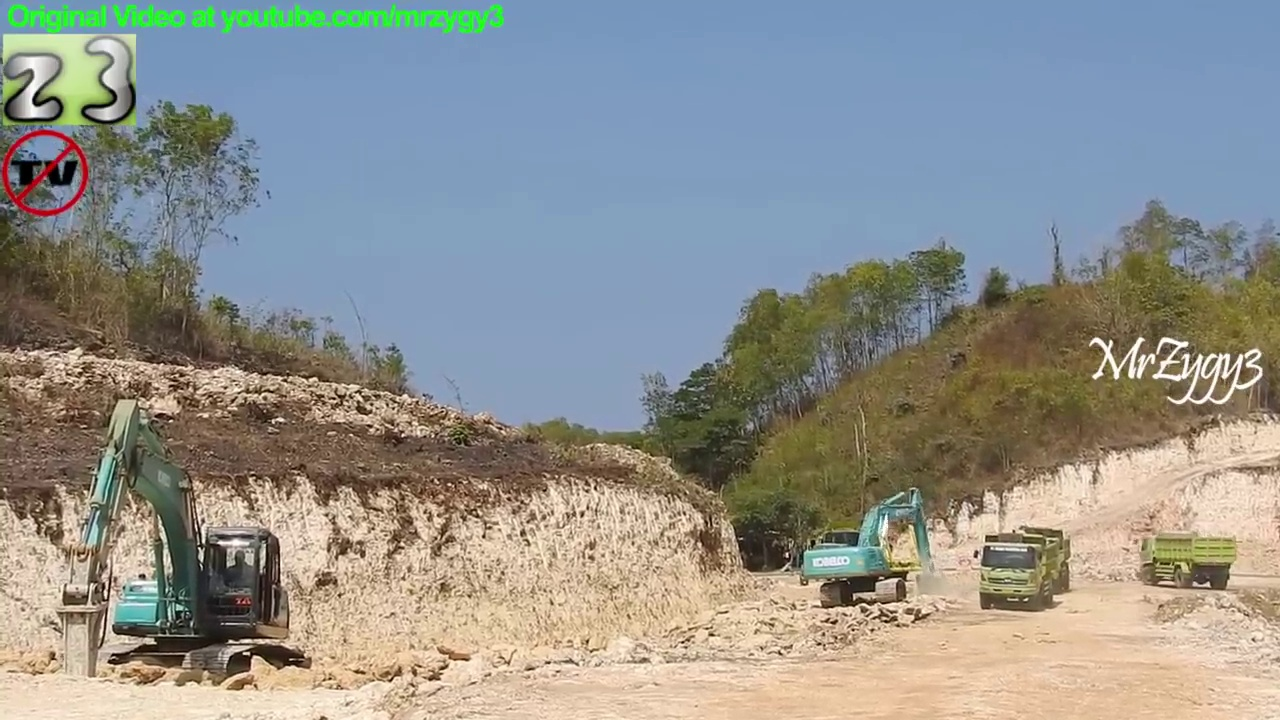excavator: (798, 479, 946, 612)
excavator breaker: (55, 395, 316, 696)
truck: (971, 531, 1060, 612), (989, 521, 1074, 603), (1131, 533, 1240, 592)
